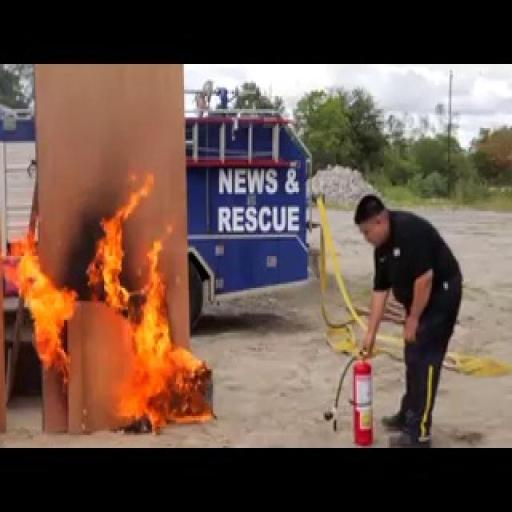smoke: (2, 186, 219, 435)
